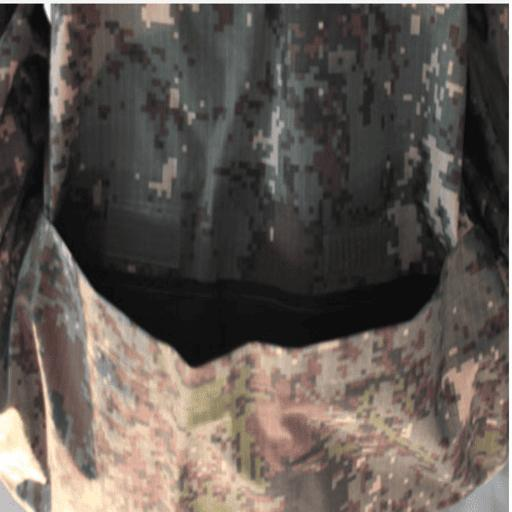korea army: (1, 3, 508, 510)
